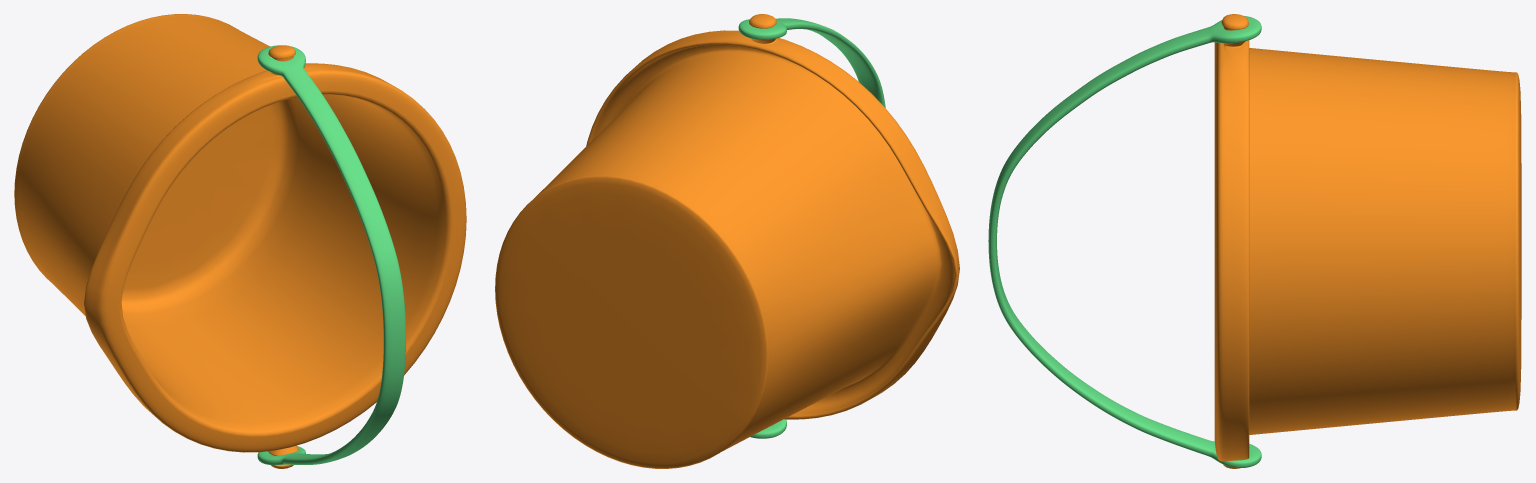
Rendered from 11672_bucket_v1_L3.obj.
3 views of the same model, side by side, from view 1: azimuth 30°, elevation 25°; view 2: azimuth 150°, elevation 25°; view 3: azimuth 270°, elevation 25° (orthographic). The views are drawn at different scales.
Visible parts, largest first — view 1: bucket, handle; view 2: bucket, handle; view 3: bucket, handle.
Boxes of the visible parts, x1,y1,x2,y2 form: bucket: (14, 14, 466, 468); handle: (257, 45, 405, 464); bucket: (495, 14, 959, 468); handle: (738, 18, 885, 438); bucket: (1214, 14, 1521, 468); handle: (988, 16, 1261, 467).
Bounding box in the file's own units: 28.29 × 30.16 × 32.53.
